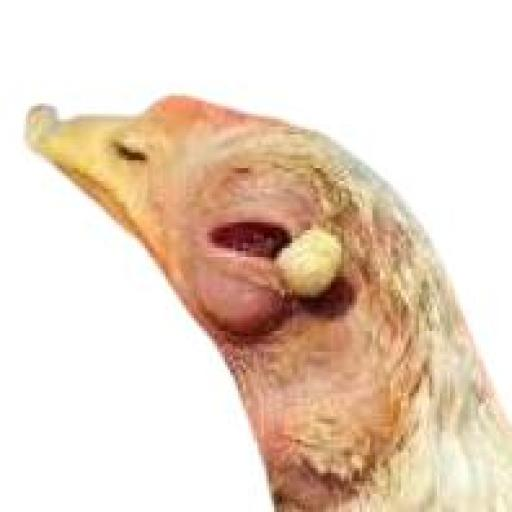disease: (190, 160, 365, 318)
